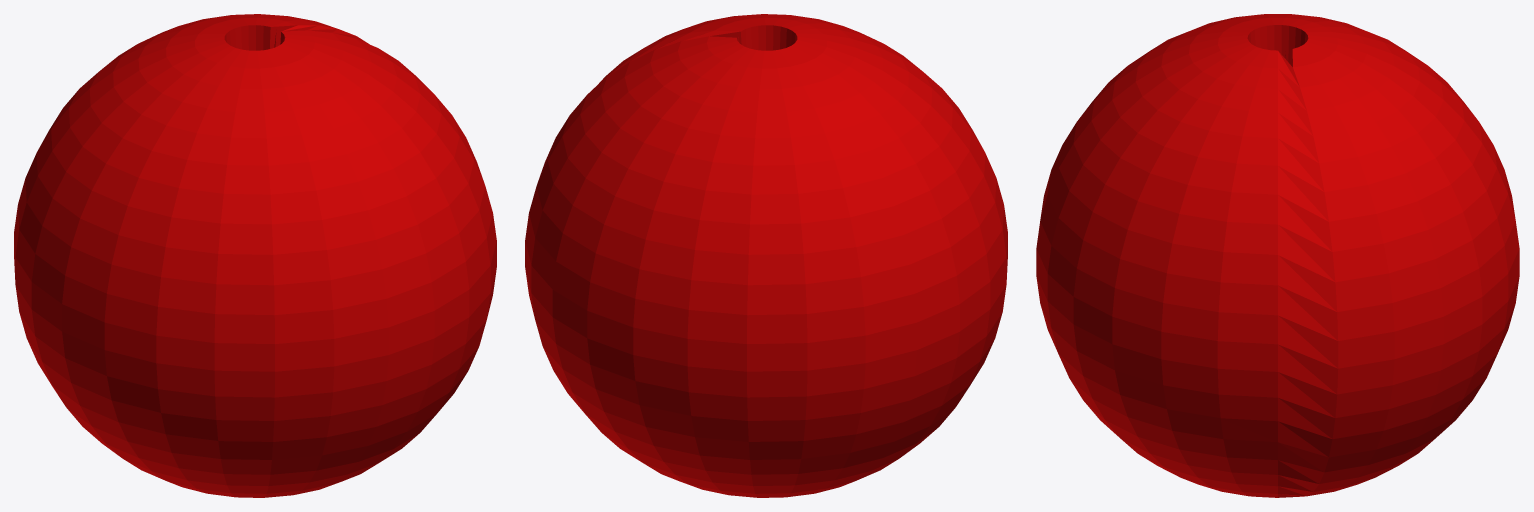
File: sphereOWN.obj
3 renders of one model, left to right at view 1: azimuth 30°, elevation 25°; view 2: azimuth 150°, elevation 25°; view 3: azimuth 270°, elevation 25°, orthographic.
Parts seen in each view (by area): view 1: Sphere; view 2: Sphere; view 3: Sphere.
Boxes of the visible parts, box(x1,y1,x2,y2) form: Sphere: box(14, 14, 496, 497); Sphere: box(525, 14, 1007, 497); Sphere: box(1036, 14, 1519, 497).
Bounding box in the file's own units: 1.99 × 1.99 × 1.99.
